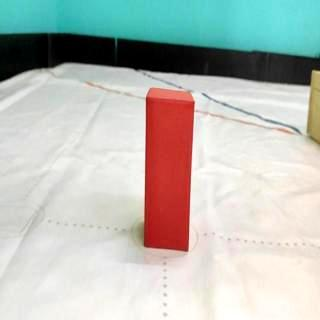redbox: (146, 86, 193, 252)
